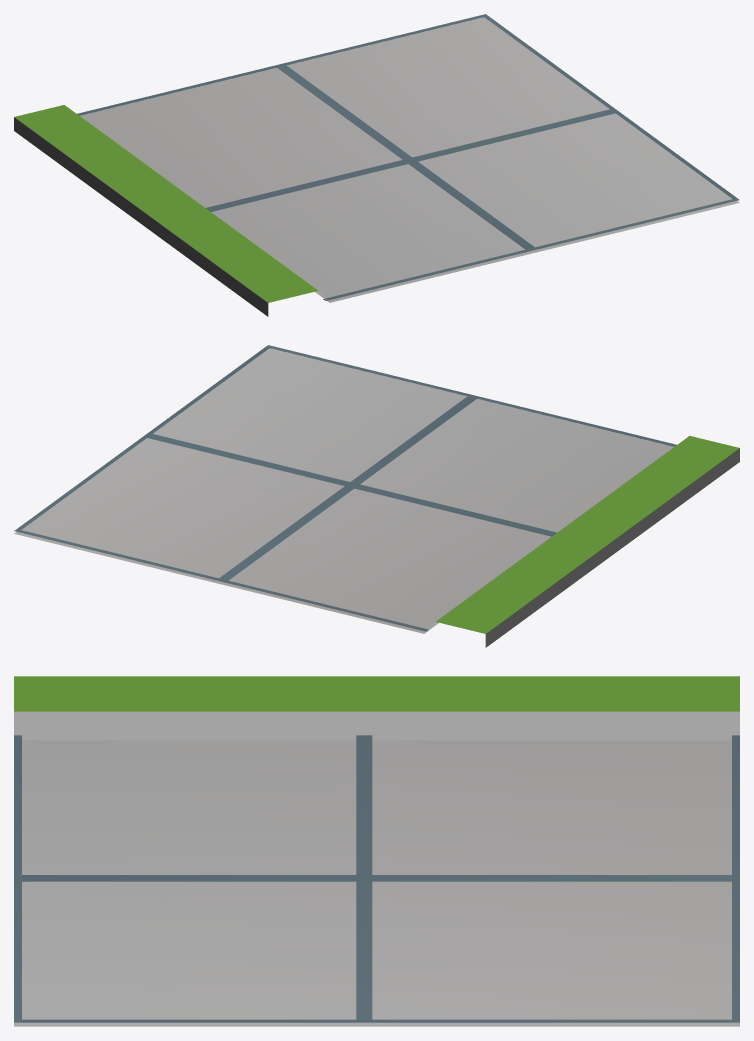
Rendered from Side_Tile.fbx.
The picture shows the model from 3 angles, top to bottom: view 1: azimuth 30°, elevation 25°; view 2: azimuth 150°, elevation 25°; view 3: azimuth 270°, elevation 25°; orthographic projection. The views are drawn at different scales.
Visible parts, largest first — view 1: Side_Tile; view 2: Side_Tile; view 3: Side_Tile.
Part boxes in pixels (x1,y1,x2,y2): Side_Tile: (14, 14, 739, 316); Side_Tile: (14, 345, 739, 647); Side_Tile: (14, 676, 739, 1026).
Bounding box in the file's own units: 0.8694 × 0.0263 × 0.8112.
